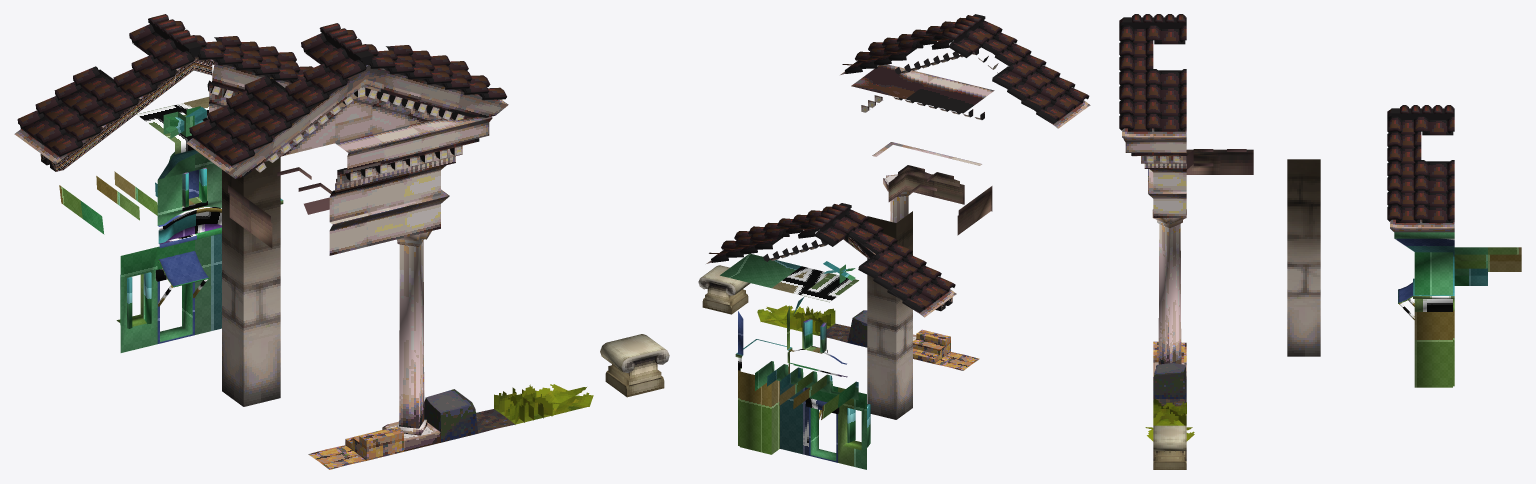
The model's file is tiles.glb.
The picture shows the model from 3 angles, left to right: view 1: azimuth 30°, elevation 25°; view 2: azimuth 150°, elevation 25°; view 3: azimuth 270°, elevation 25°; orthographic projection. The views are drawn at different scales.
Parts seen in each view (by area): view 1: temple_wall-col, pillar_00, temple_roof_border_corner, temple_roof_border_wall_01, temple_roof_border_wall_00, 31_peasant_roof_border_wall_01, temple_roof_border_center, tower_pillar_00, temple_roof_border_inner_inverse, temple_roof_border_inner, 52_peasant_wall_window, 31_peasant_roof_border_wall_00 (+29 smaller); view 2: temple_wall-col, 54_peasant_wall_corner, 30_peasant_roof_border_corner, temple_roof_border_corner, tower_pillar_00, 52_peasant_wall_window, 51_peasant_wall, 31_peasant_roof_border_wall_00, 31_peasant_roof_border_wall_01, 44_peasant_roof_end_inverse, temple_roof_end_inverse, 53_peasant_wall_doorway (+36 smaller); view 3: temple_wall-col, 30_peasant_roof_border_corner, pillar_00, temple_roof_border_corner, 54_peasant_wall_corner, tower_pillar_00, temple_roof_border_end_00, 33_peasant_roof_border_end_00, temple_roof_end, 43_peasant_roof_end, stone_00, 41_peasant_roof (+15 smaller).
Boxes of the visible parts, x1=… form: temple_wall-col: x1=222, y1=157, x2=280, y2=406; pillar_00: x1=382, y1=231, x2=440, y2=451; temple_roof_border_corner: x1=404, y1=115, x2=492, y2=237; temple_roof_border_wall_01: x1=329, y1=134, x2=385, y2=255; temple_roof_border_wall_00: x1=366, y1=125, x2=422, y2=246; 31_peasant_roof_border_wall_01: x1=136, y1=105, x2=198, y2=248; temple_roof_border_center: x1=322, y1=38, x2=395, y2=123; tower_pillar_00: x1=600, y1=334, x2=669, y2=397; temple_roof_border_inner_inverse: x1=285, y1=63, x2=349, y2=152; temple_roof_border_inner: x1=372, y1=50, x2=432, y2=133; 52_peasant_wall_window: x1=116, y1=247, x2=157, y2=352; 31_peasant_roof_border_wall_00: x1=174, y1=97, x2=221, y2=239; temple_wall-col: x1=867, y1=211, x2=912, y2=419; 54_peasant_wall_corner: x1=738, y1=364, x2=789, y2=454; 30_peasant_roof_border_corner: x1=720, y1=253, x2=801, y2=370; temple_roof_border_corner: x1=851, y1=64, x2=936, y2=156; tower_pillar_00: x1=698, y1=265, x2=750, y2=314; 52_peasant_wall_window: x1=838, y1=387, x2=866, y2=469; 51_peasant_wall: x1=780, y1=381, x2=808, y2=455; 31_peasant_roof_border_wall_00: x1=772, y1=266, x2=829, y2=370; 31_peasant_roof_border_wall_01: x1=801, y1=273, x2=858, y2=377; 44_peasant_roof_end_inverse: x1=887, y1=275, x2=940, y2=317; temple_roof_end_inverse: x1=1021, y1=87, x2=1074, y2=128; 53_peasant_wall_doorway: x1=806, y1=386, x2=839, y2=462; temple_wall-col: x1=1287, y1=159, x2=1320, y2=356; 30_peasant_roof_border_corner: x1=1394, y1=232, x2=1454, y2=311; pillar_00: x1=1152, y1=209, x2=1186, y2=382; temple_roof_border_corner: x1=1123, y1=139, x2=1186, y2=217; 54_peasant_wall_corner: x1=1414, y1=310, x2=1454, y2=387; tower_pillar_00: x1=1153, y1=425, x2=1186, y2=469; temple_roof_border_end_00: x1=1119, y1=99, x2=1153, y2=141; 33_peasant_roof_border_end_00: x1=1387, y1=190, x2=1421, y2=232; temple_roof_end: x1=1153, y1=99, x2=1186, y2=141; 43_peasant_roof_end: x1=1421, y1=190, x2=1454, y2=232; stone_00: x1=1153, y1=363, x2=1186, y2=399; 41_peasant_roof: x1=1421, y1=160, x2=1454, y2=192.
Size of what is drawn, in the model's own units: 12.43 by 10.98 by 12.01.
7 materials, 7 textured.
